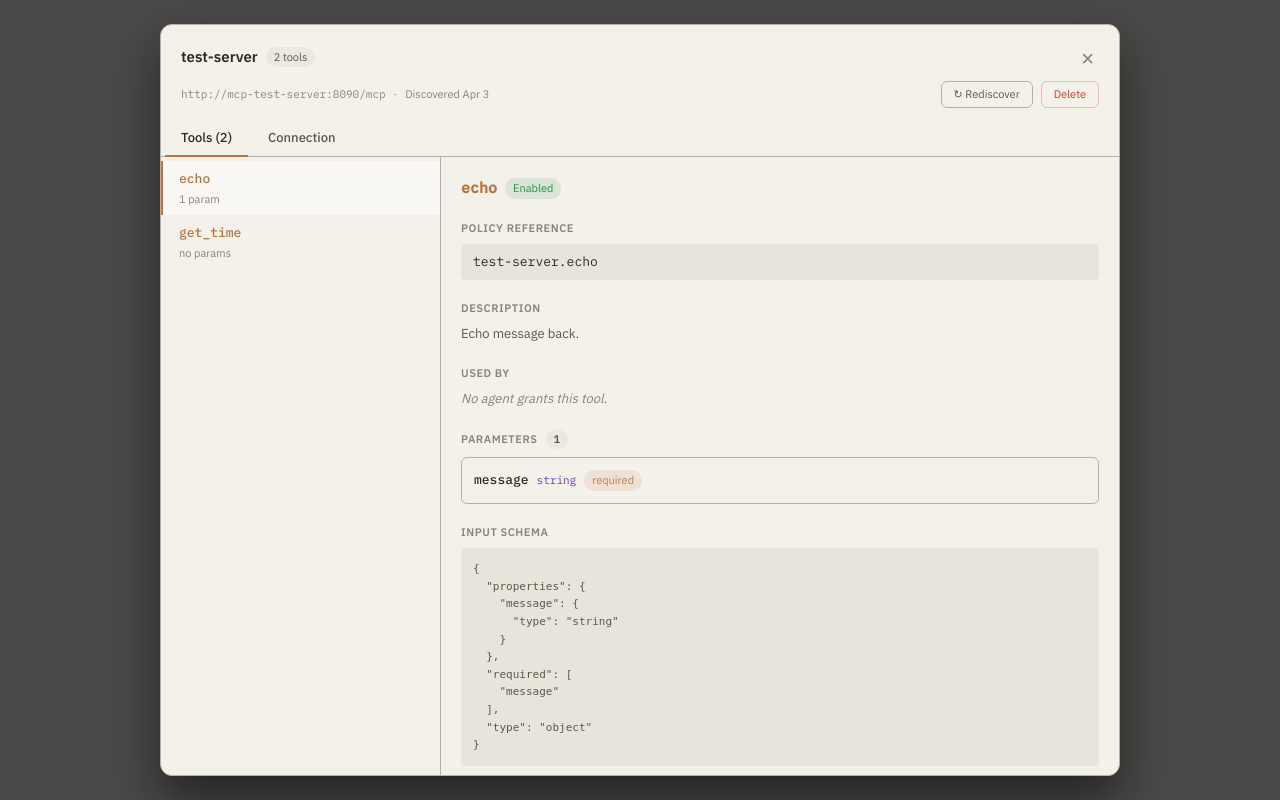
ServerDetailModal — auth header editor › opening the editor seeds one row per key with empty value fields and disabled name inputs
Click the tab "Connection" at (302, 138), box top-left (252, 120), bottom-right (352, 157)
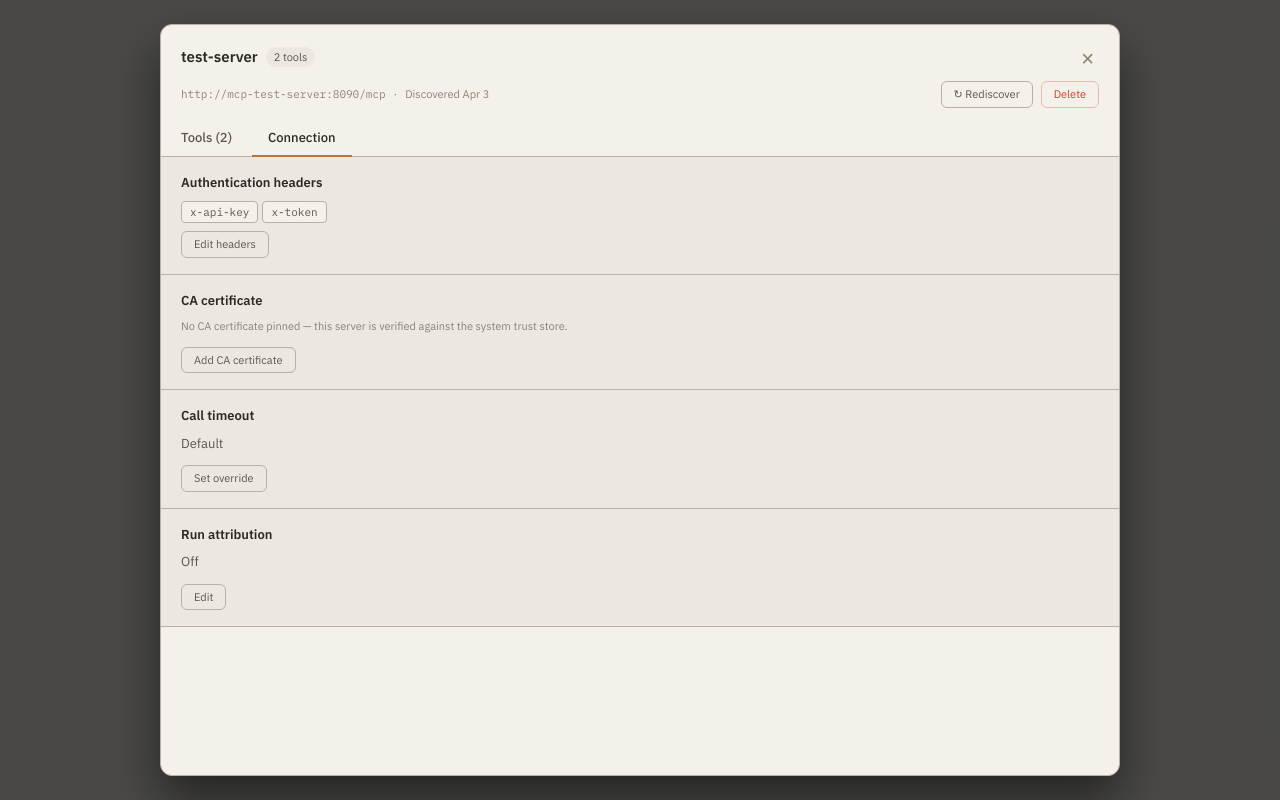
Click the button "Edit headers" at (225, 244), box top-left (181, 231), bottom-right (269, 258)
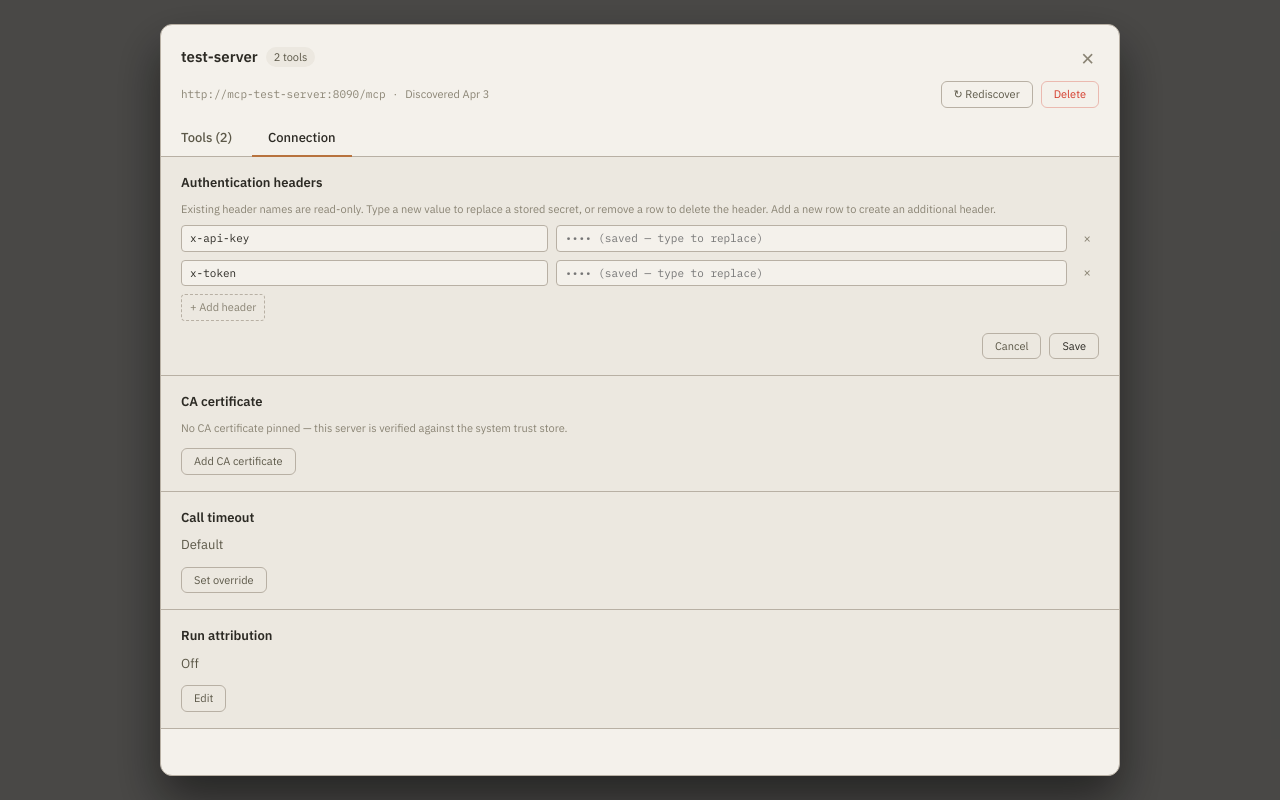
Now the number of fields named "Header name" is 2, box top-left (181, 225), bottom-right (548, 252); top-left (181, 260), bottom-right (548, 286)
Now the number of fields named "header value" is 2, box top-left (556, 225), bottom-right (1067, 252); top-left (556, 260), bottom-right (1067, 286)
Now the field named "Header name" holds "x-api-key", box top-left (181, 225), bottom-right (548, 252)
